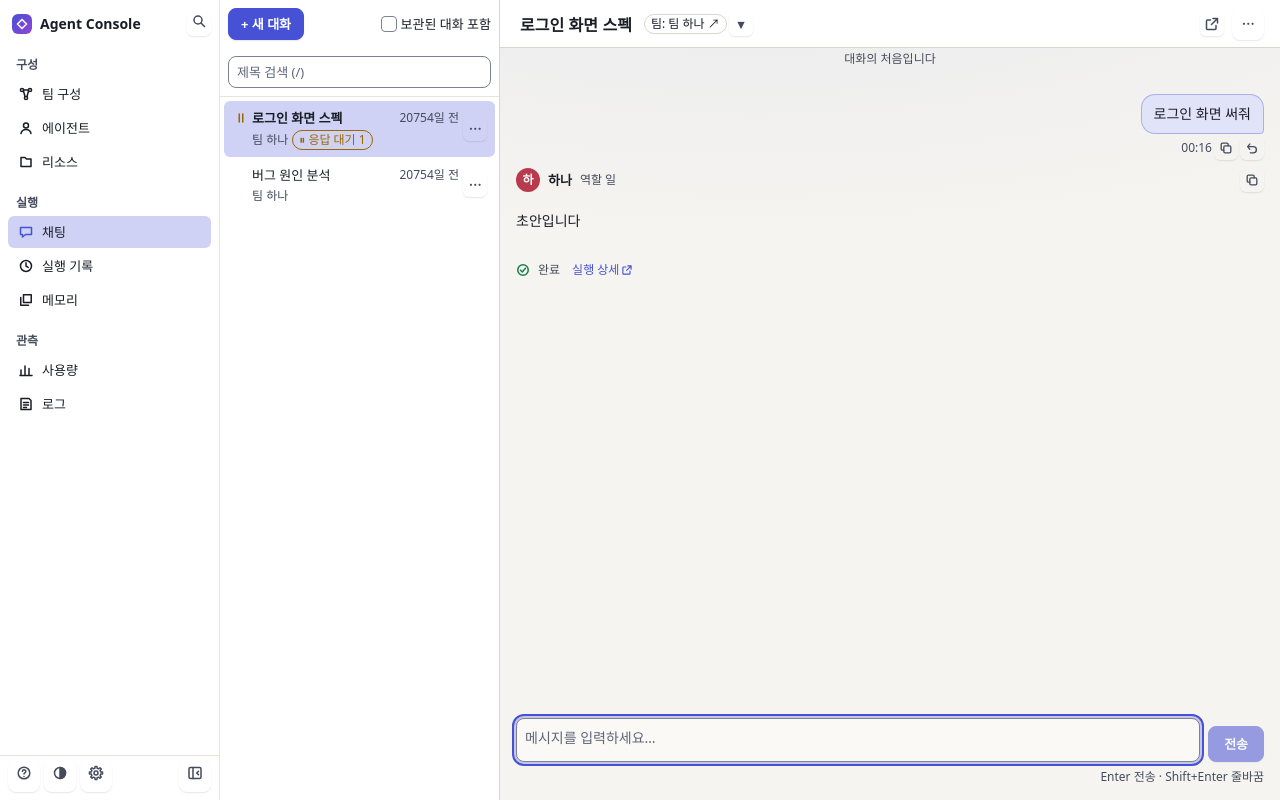
Test: 메시지 전송과 대기열 › 거절 정책(409 busy)이면 안내하고 입력은 지우지 않는다
The image size is (1280, 800).
Expected: the text "초안입니다" is shown, [516,211,580,230]
Type "지우면 안 됨" into the text box named "메시지 입력" at (858, 740), box [516,718,1200,762]
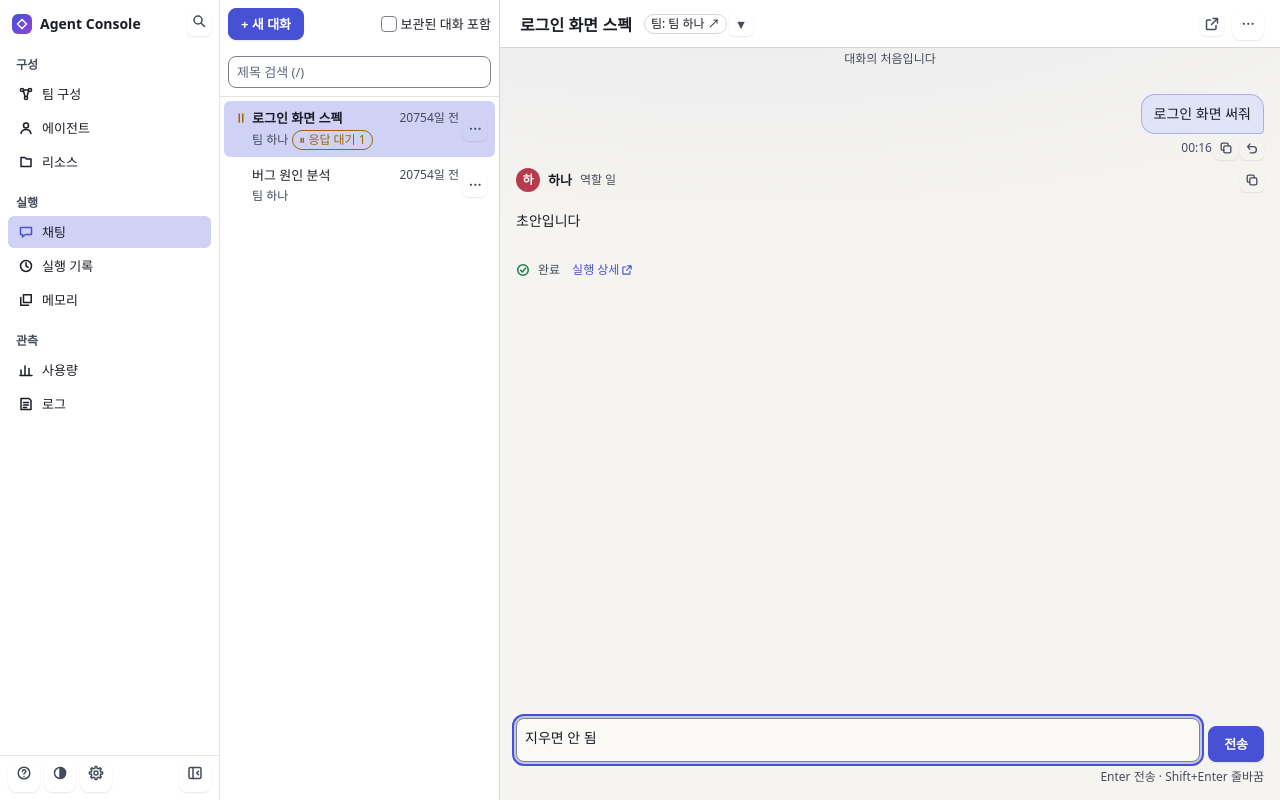
Click the button "전송" at (1236, 744), box [1208,726,1264,762]
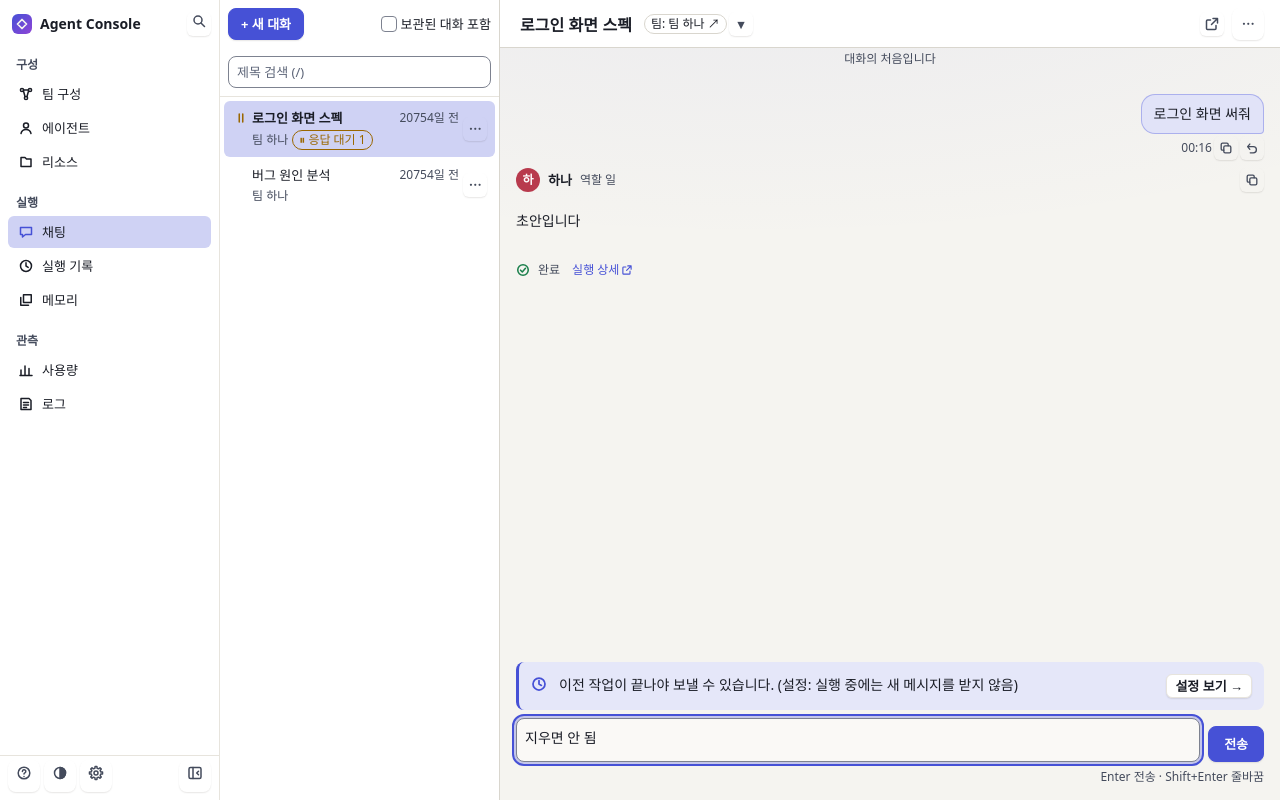
Expected: the text "이전 작업이 끝나야 보낼 수 있습니다. (설정: 실행 중에는 새 메시지를 받지 않음)" is shown, [559,675,1018,694]
